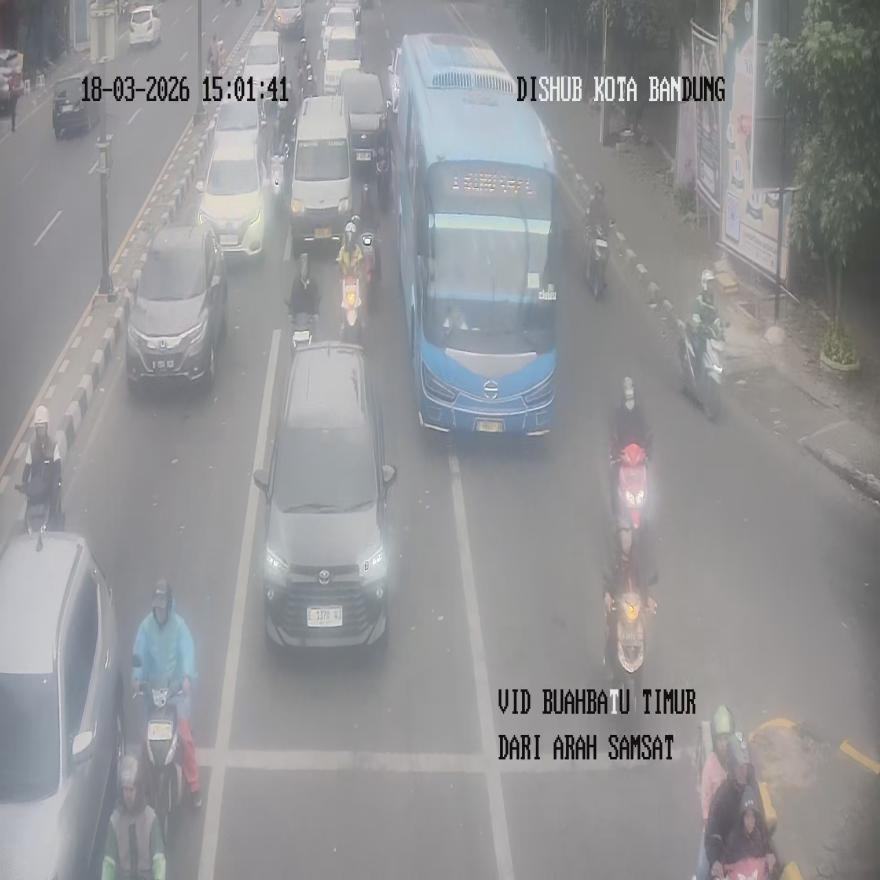Mobil: (253, 340, 396, 649), (0, 529, 125, 878), (125, 220, 227, 393), (288, 96, 354, 254), (205, 137, 265, 251), (320, 1, 362, 94)
bus: (394, 33, 560, 434)
